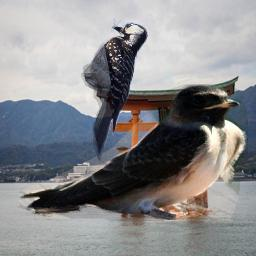Swallow: (16, 84, 248, 221)
Woodpecker: (81, 16, 148, 162)
